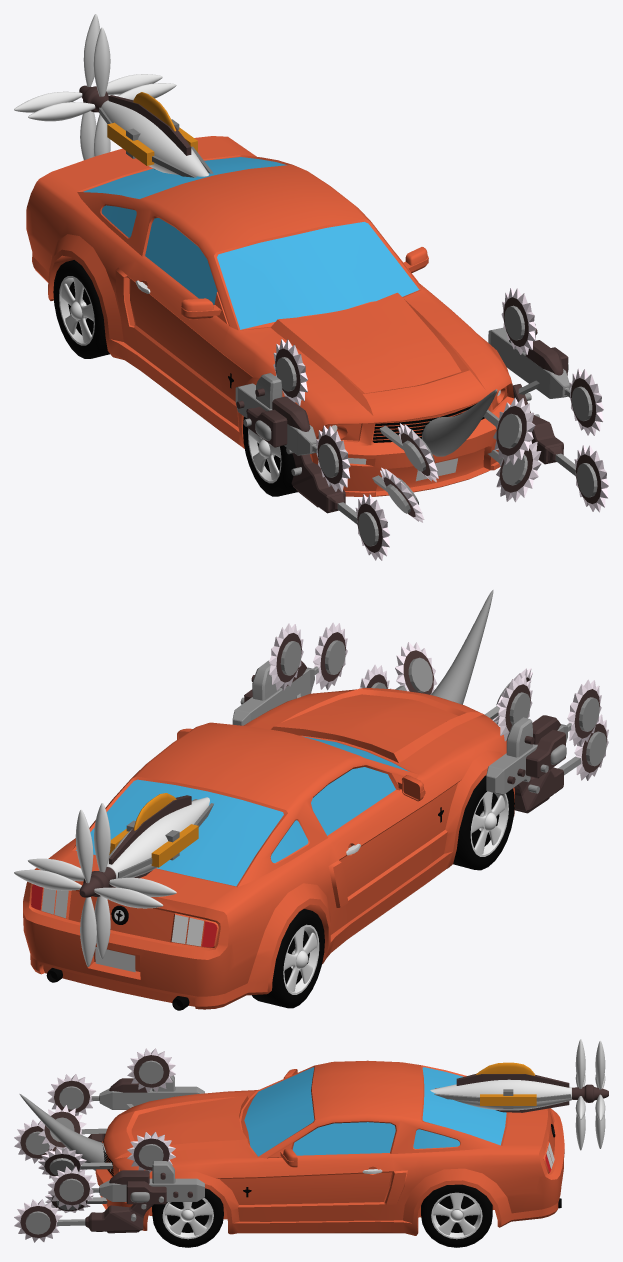
Rendered from MustangModel.fbx.
The picture shows the model from 3 angles, top to bottom: view 1: azimuth 30°, elevation 25°; view 2: azimuth 150°, elevation 25°; view 3: azimuth 270°, elevation 25°; orthographic projection. The views are drawn at different scales.
Parts seen in each view (by area): view 1: Car-Model, Wheel-Back-Right, Plane.014, Plane.011, Propeler, Cube.001, Front-Horns-Saws, Wheel Right-Front, Cube.003, Cube.002, Circle.013, Car-Mirrors (+15 smaller); view 2: Car-Model, Plane.014, Plane.011, Wheel-Back-Right, Wheel Right-Front, Propeler, Front-Horns-Saws, Cube.001, Cube.002, Cube.003, Circle.012, Circle.010 (+20 smaller); view 3: Car-Model, Wheel-Back-Left, Propeler, Wheel-Left-Front, Front-Horns-Saws, Cube.011, Cube.001, Cube.002, Cube.010, Circle.002, Circle.010, Circle.011 (+24 smaller).
Part boxes in pixels (x1,y1,x2,y2): Car-Model: [26, 136, 514, 497]; Wheel-Back-Right: [53, 260, 109, 358]; Plane.014: [14, 14, 162, 160]; Plane.011: [28, 27, 176, 156]; Propeler: [101, 100, 209, 176]; Cube.001: [488, 327, 570, 398]; Front-Horns-Saws: [422, 389, 497, 456]; Wheel Right-Front: [243, 416, 297, 496]; Cube.003: [291, 453, 345, 513]; Cube.002: [235, 383, 317, 455]; Circle.013: [493, 397, 535, 464]; Car-Mirrors: [181, 247, 428, 319]; Car-Model: [23, 688, 514, 1009]; Plane.014: [14, 809, 163, 966]; Plane.011: [28, 803, 176, 958]; Wheel-Back-Right: [251, 909, 324, 1008]; Wheel Right-Front: [453, 775, 514, 870]; Propeler: [106, 797, 209, 878]; Front-Horns-Saws: [431, 590, 493, 704]; Cube.001: [232, 666, 318, 725]; Cube.002: [486, 723, 571, 794]; Cube.003: [514, 767, 563, 813]; Circle.012: [269, 623, 303, 690]; Circle.010: [313, 622, 347, 690]; Car-Model: [95, 1060, 564, 1235]; Wheel-Back-Left: [421, 1184, 492, 1247]; Propeler: [430, 1079, 571, 1110]; Wheel-Left-Front: [152, 1188, 223, 1247]; Front-Horns-Saws: [19, 1094, 106, 1170]; Cube.011: [85, 1204, 153, 1233]; Cube.001: [91, 1178, 204, 1201]; Cube.002: [91, 1086, 204, 1109]; Cube.010: [456, 1073, 569, 1112]; Circle.002: [127, 1048, 175, 1092]; Circle.010: [47, 1166, 95, 1209]; Circle.011: [14, 1199, 62, 1242].
Bounding box in the file's own units: 171 × 129 × 405.
